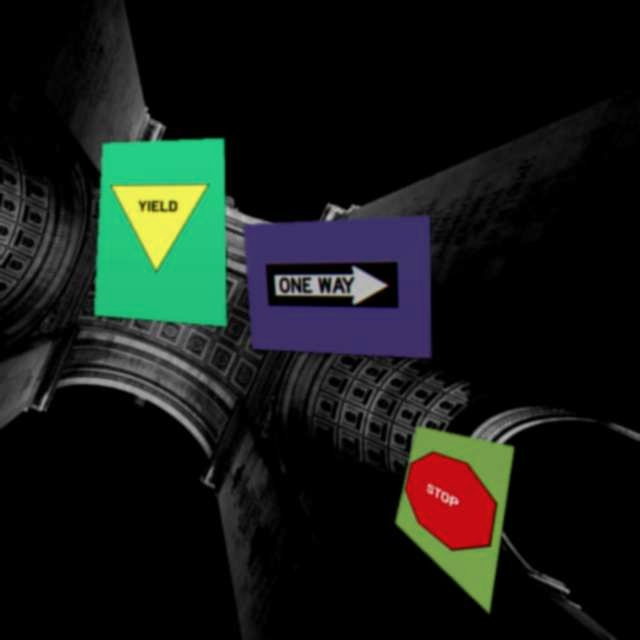ONE_WAY_ right: (262, 260, 402, 308)
STOP: (394, 445, 515, 579)
YIELD: (106, 184, 210, 275)
